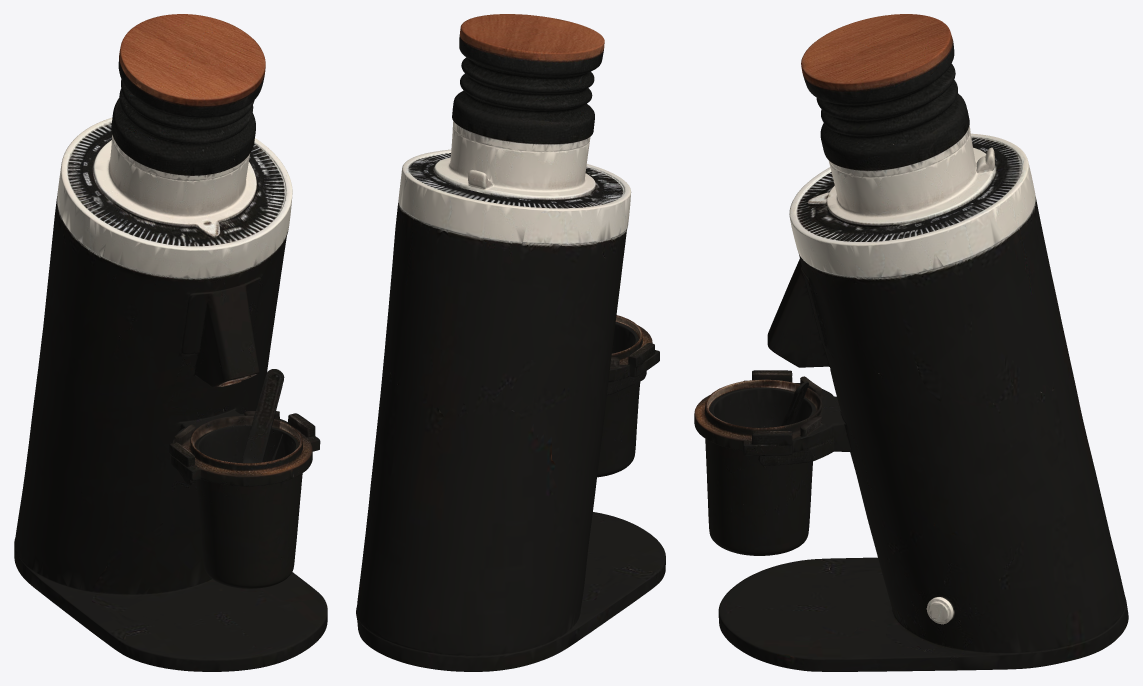
File: grinder.optimized.glb
The picture shows the model from 3 angles, left to right: view 1: azimuth 30°, elevation 25°; view 2: azimuth 150°, elevation 25°; view 3: azimuth 270°, elevation 25°; orthographic projection. The views are drawn at different scales.
Bounding box in the file's own units: 0.7062 × 1.9 × 1.27.
Materials: 1 (1 with a texture image).
